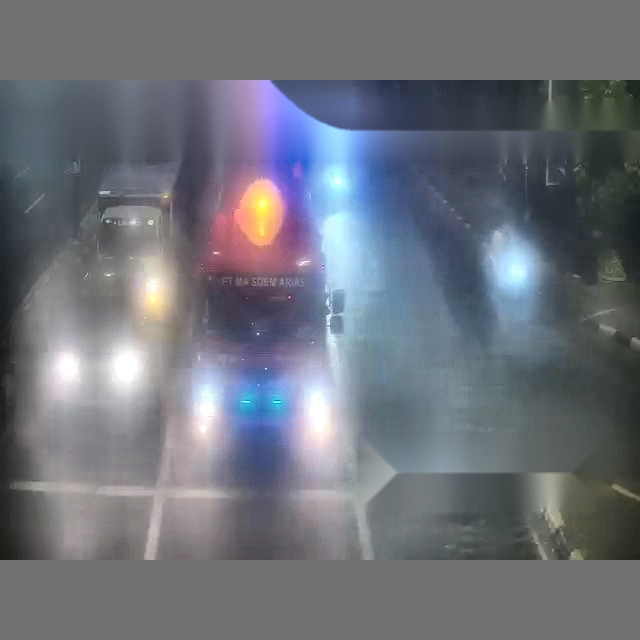Bis: (222, 85, 639, 556)
